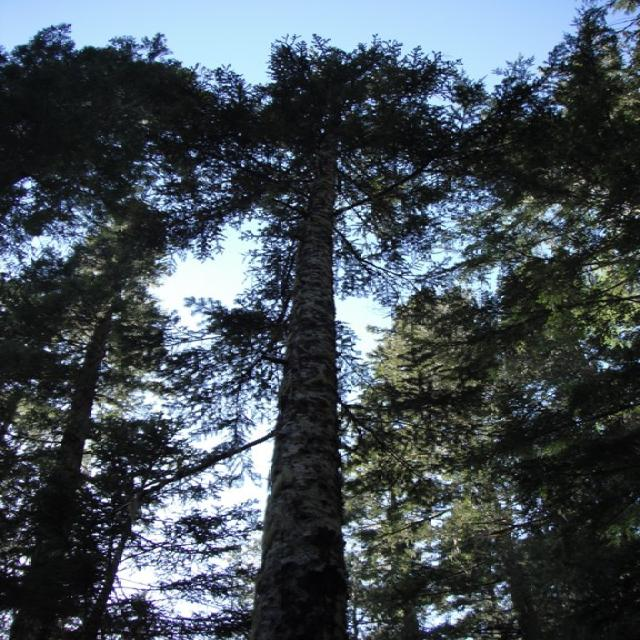Abies: (140, 29, 494, 640), (0, 199, 189, 640)
